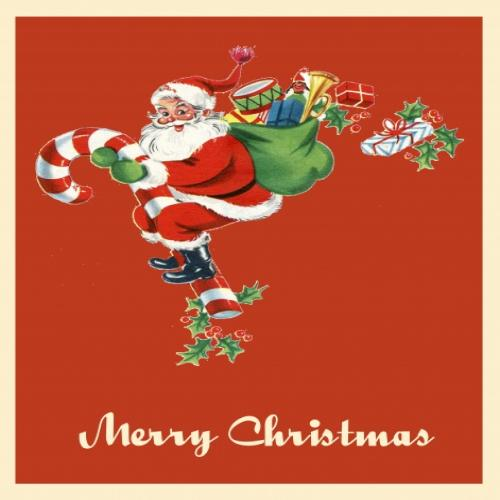Santa: (92, 46, 282, 288)
